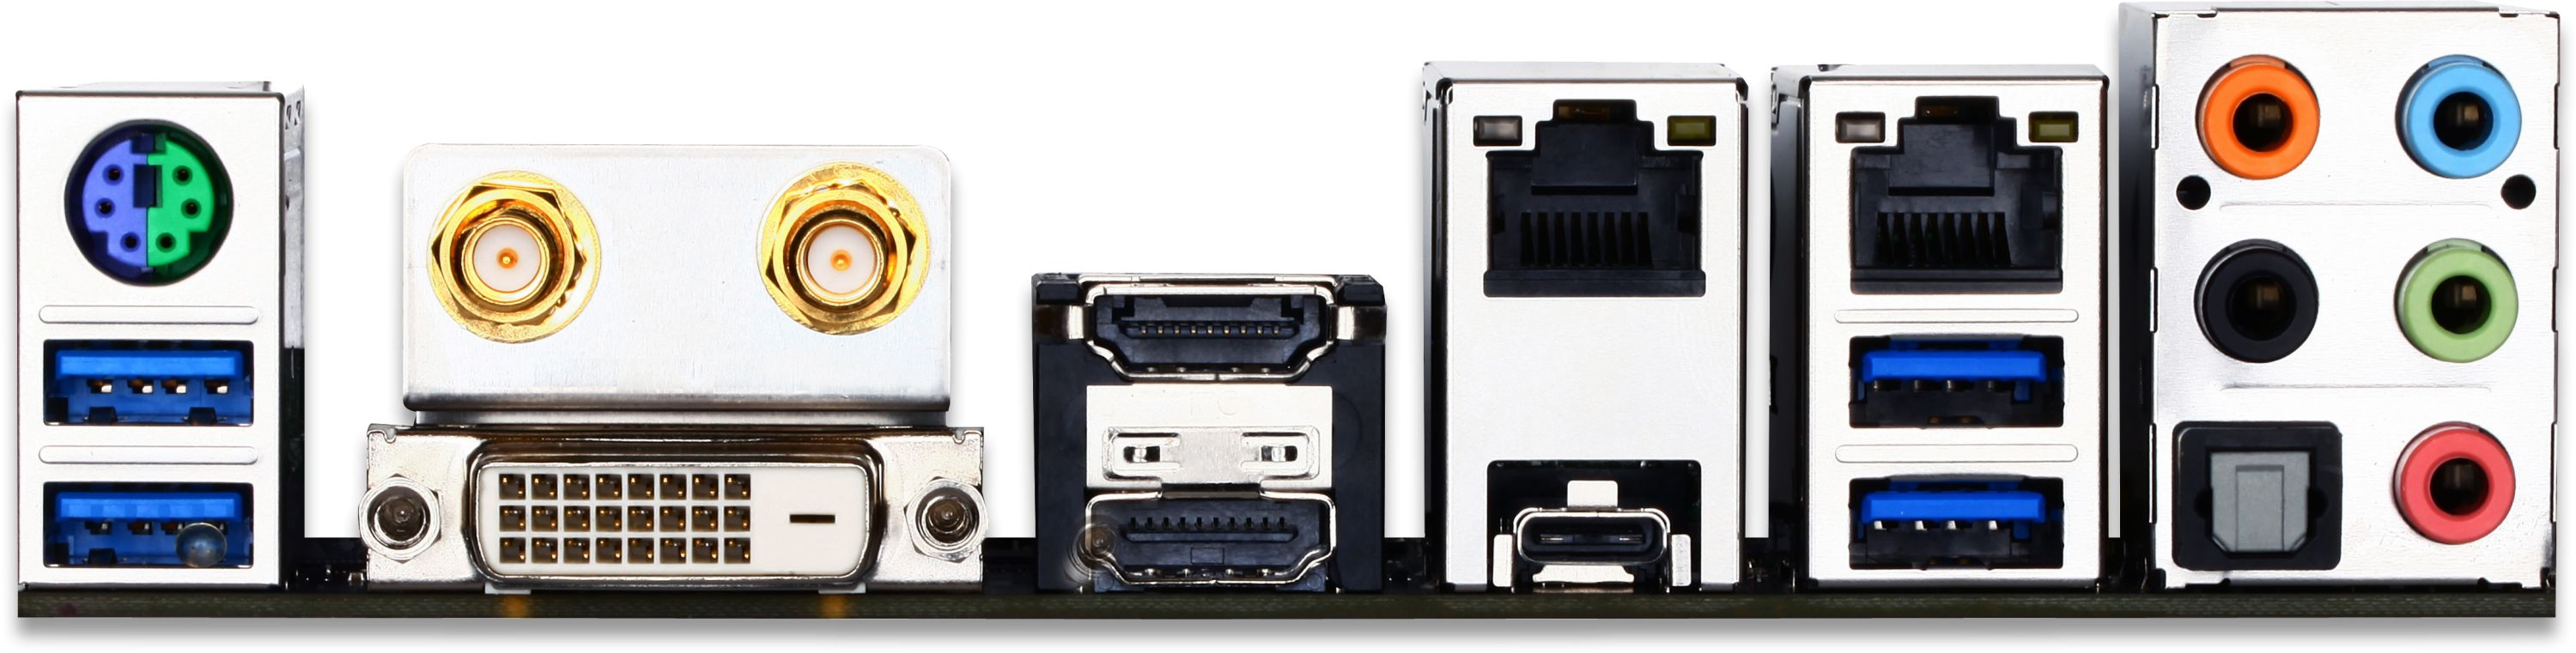Audio: (2376, 417, 2525, 550), (2382, 46, 2527, 179), (2379, 235, 2527, 364), (2193, 39, 2333, 176), (2196, 235, 2326, 364)
DVI: (450, 440, 897, 586)
Ethernet: (1446, 95, 1740, 315), (1820, 89, 2090, 310)
USB: (1828, 458, 2080, 576), (21, 461, 271, 576), (36, 322, 271, 440), (1832, 328, 2078, 425)
